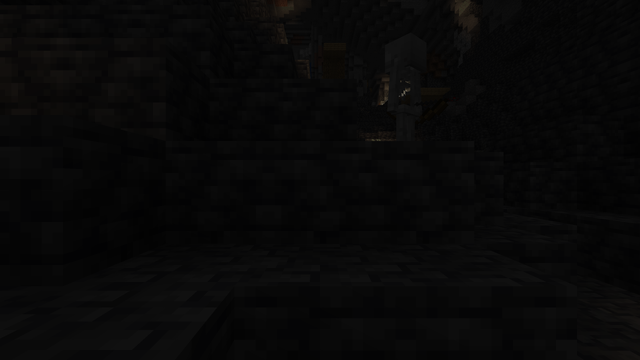squelettes: (384, 34, 429, 132)
